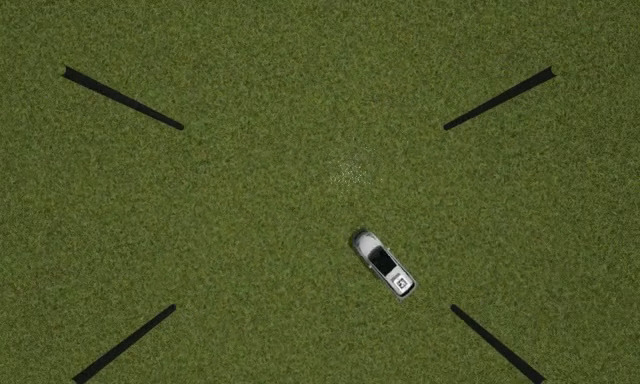Car: (351, 229, 418, 300)
Landing Pad: (395, 276, 411, 293)
